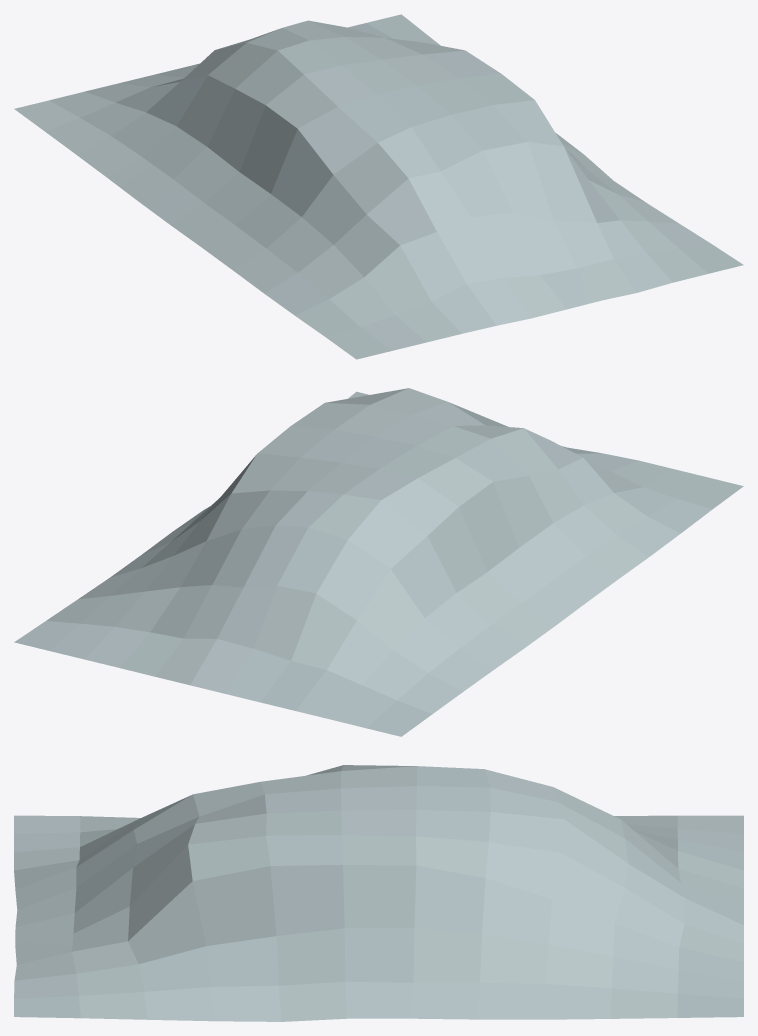
Rendered from quicksand.glb.
The picture shows the model from 3 angles, top to bottom: view 1: azimuth 30°, elevation 25°; view 2: azimuth 150°, elevation 25°; view 3: azimuth 270°, elevation 25°; orthographic projection. The views are drawn at different scales.
Visible parts, largest first — view 1: Sambaqui; view 2: Sambaqui; view 3: Sambaqui.
Part boxes in pixels (x1=…): Sambaqui: x1=14, y1=14, x2=743, y2=359; Sambaqui: x1=14, y1=388, x2=743, y2=736; Sambaqui: x1=14, y1=765, x2=743, y2=1021.
Size of the model in its own units: 6.45 by 1.91 by 9.87.
Materials: 1 (1 with a texture image).
